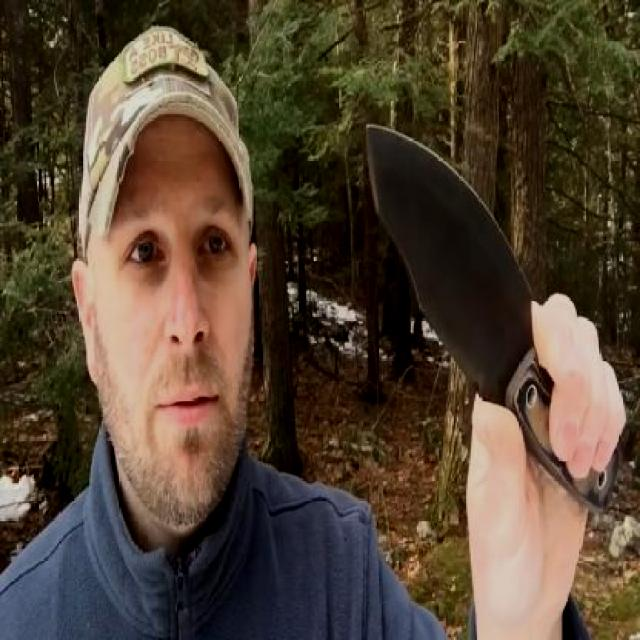knife: (357, 116, 594, 478)
